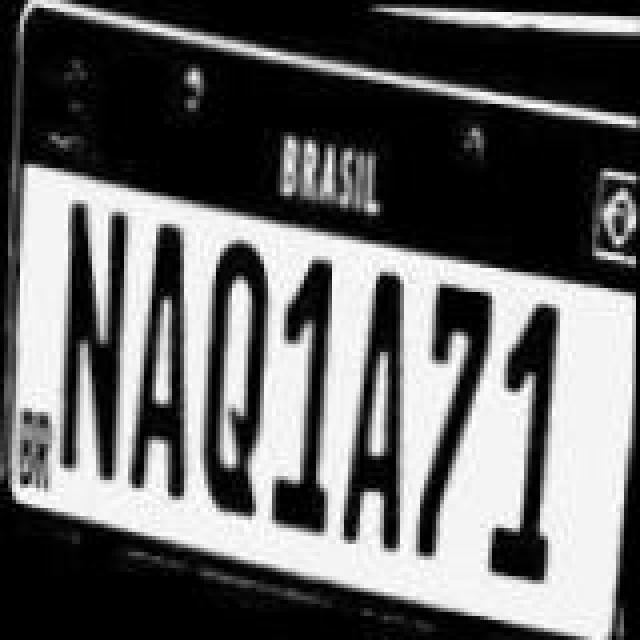1: (486, 292, 566, 596), (270, 256, 342, 532)
7: (416, 270, 496, 566)
A: (120, 208, 204, 500), (342, 256, 422, 552)
N: (46, 192, 130, 488)
Q: (198, 232, 270, 512)
